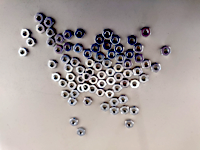nut: (161, 45, 172, 57), (141, 26, 152, 37), (151, 62, 162, 73), (95, 53, 107, 63), (106, 50, 118, 60), (18, 47, 29, 57), (20, 28, 30, 39), (127, 35, 137, 46), (134, 43, 145, 53), (102, 29, 113, 39), (75, 28, 85, 39), (45, 28, 56, 38), (72, 44, 83, 54), (62, 42, 73, 52), (123, 69, 134, 79), (110, 106, 121, 116), (95, 89, 107, 98), (26, 37, 36, 47), (123, 60, 133, 70), (36, 24, 46, 34), (63, 30, 73, 40), (54, 34, 64, 44), (95, 35, 105, 45), (103, 40, 113, 50), (115, 45, 125, 55), (114, 63, 124, 73), (120, 106, 130, 116), (81, 83, 91, 93), (75, 65, 85, 75), (78, 84, 88, 94), (141, 60, 152, 69), (130, 80, 141, 89), (33, 13, 44, 22), (60, 55, 71, 64), (51, 73, 62, 82), (90, 44, 101, 53), (102, 59, 113, 68), (115, 55, 126, 64), (97, 80, 108, 89), (101, 102, 110, 113), (75, 76, 86, 85), (69, 118, 79, 127), (76, 128, 86, 137), (83, 97, 93, 106), (125, 120, 135, 129), (129, 106, 139, 115), (119, 95, 129, 104), (133, 67, 143, 76), (44, 17, 54, 26), (64, 64, 74, 73), (70, 58, 80, 67), (112, 35, 121, 45), (121, 79, 130, 89), (98, 71, 107, 81), (85, 68, 95, 77), (94, 62, 103, 72), (110, 98, 120, 107), (114, 73, 124, 82), (67, 82, 78, 90), (104, 91, 115, 99), (140, 74, 149, 83), (54, 45, 63, 54), (66, 73, 75, 82), (107, 77, 116, 86), (135, 55, 145, 63), (47, 61, 57, 69), (46, 39, 56, 47), (84, 49, 92, 59), (58, 80, 68, 88), (85, 59, 95, 67), (67, 99, 78, 106), (61, 91, 70, 99), (70, 91, 79, 99), (106, 69, 116, 76), (82, 74, 92, 81), (90, 76, 98, 84), (90, 86, 96, 94)
